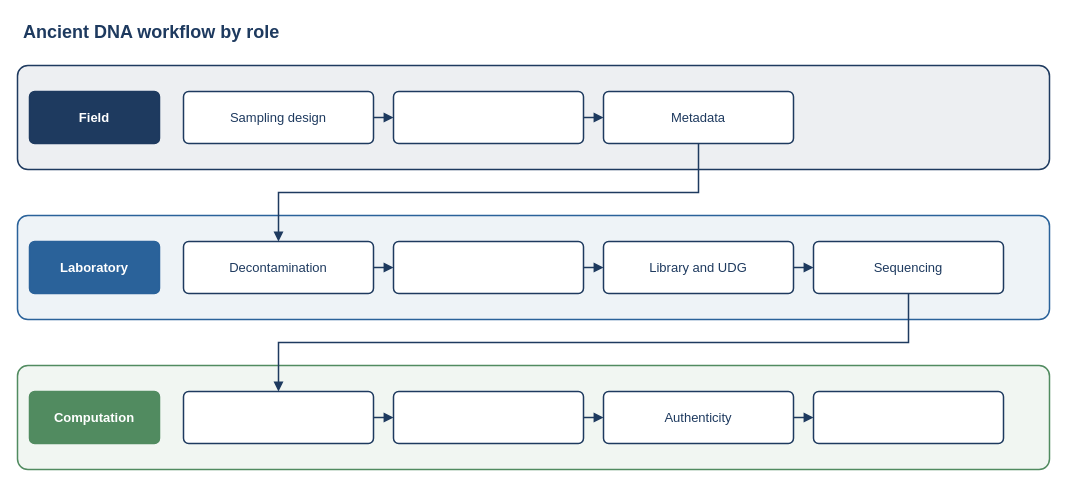
Image size: 1068x487. Some labels were removed from this diagram. The centre of each missing label's shape, as x and y in pixels:
"Damage-aware map" goes at (x=488, y=417).
"Extraction" goes at (x=488, y=267).
"Read QC" goes at (x=278, y=417).
"Storage" goes at (x=488, y=117).
"Variant calls" goes at (x=908, y=417).
